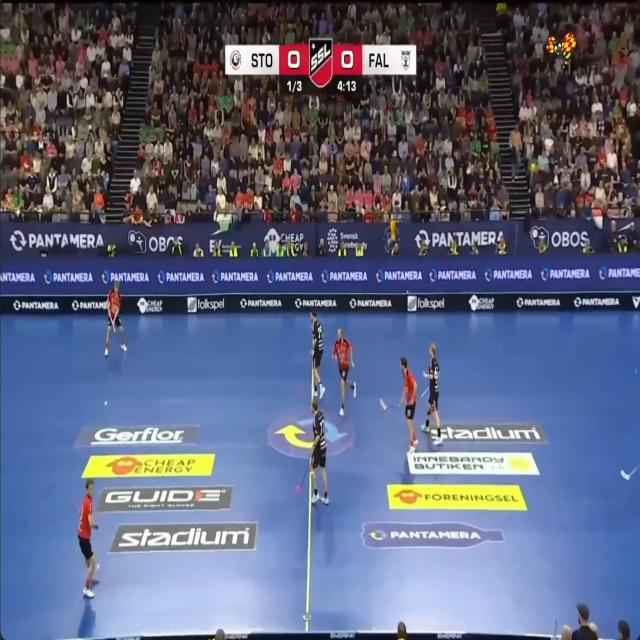player: (78, 480, 97, 597), (332, 328, 356, 415), (422, 343, 442, 444), (309, 399, 328, 504), (105, 280, 127, 355), (400, 356, 417, 453), (310, 312, 325, 399)
stick: (295, 466, 308, 490), (620, 465, 640, 480)
